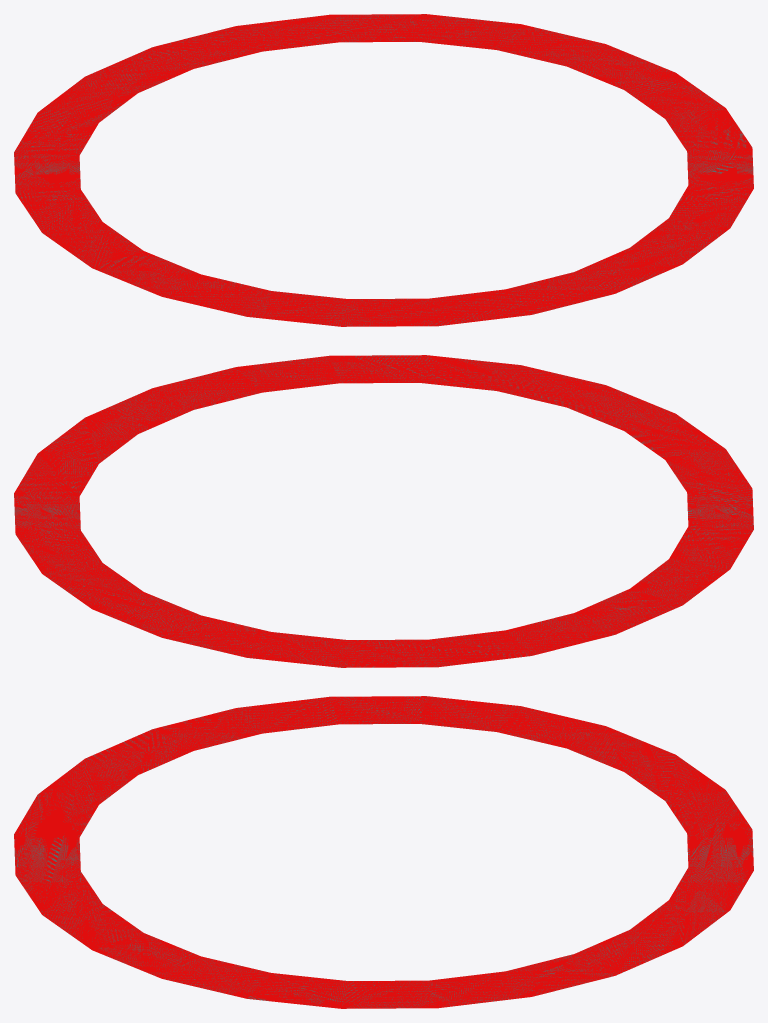
The model's file is original-57.obj.
The picture shows the model from 3 angles, top to bottom: view 1: azimuth 30°, elevation 25°; view 2: azimuth 150°, elevation 25°; view 3: azimuth 270°, elevation 25°; orthographic projection.
Visible parts, largest first — view 1: 3dw.47c68395a5775e10d9deb3f829cc2475/Model/Component_18_1/Compon; view 2: 3dw.47c68395a5775e10d9deb3f829cc2475/Model/Component_18_1/Compon; view 3: 3dw.47c68395a5775e10d9deb3f829cc2475/Model/Component_18_1/Compon.
Boxes of the visible parts, bbox=[...] form: 3dw.47c68395a5775e10d9deb3f829cc2475/Model/Component_18_1/Compon: bbox=[14, 14, 753, 326]; 3dw.47c68395a5775e10d9deb3f829cc2475/Model/Component_18_1/Compon: bbox=[14, 355, 753, 667]; 3dw.47c68395a5775e10d9deb3f829cc2475/Model/Component_18_1/Compon: bbox=[14, 696, 753, 1008].
Bounding box in the file's own units: 0.1449 × 0 × 0.1449.
